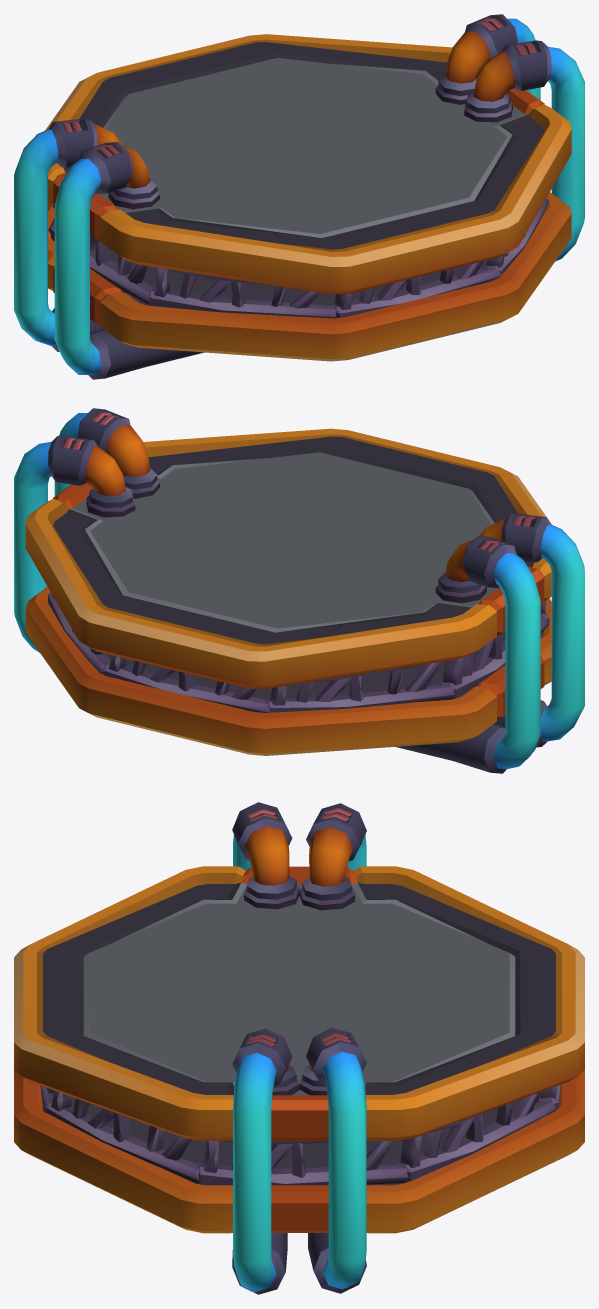
The model's file is SM_Prison_Сonstruction_06.fbx.
3 views of the same model, one above another, from view 1: azimuth 30°, elevation 25°; view 2: azimuth 150°, elevation 25°; view 3: azimuth 270°, elevation 25° (orthographic). The views are drawn at different scales.
Parts seen in each view (by area): view 1: SM_Prison_Сonstruction_06; view 2: SM_Prison_Сonstruction_06; view 3: SM_Prison_Сonstruction_06.
Boxes of the visible parts, left/top/right/bottom form: SM_Prison_Сonstruction_06: left=14, top=14, right=584, bottom=379; SM_Prison_Сonstruction_06: left=14, top=408, right=584, bottom=773; SM_Prison_Сonstruction_06: left=14, top=802, right=584, bottom=1294.
Size of the model in its own units: 13.4 by 5.58 by 11.46.
